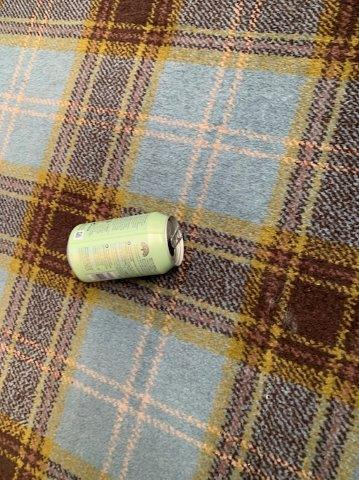kaleng: (68, 214, 184, 279)
